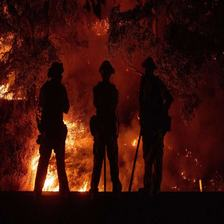fire: (20, 123, 94, 194), (3, 29, 40, 107)
